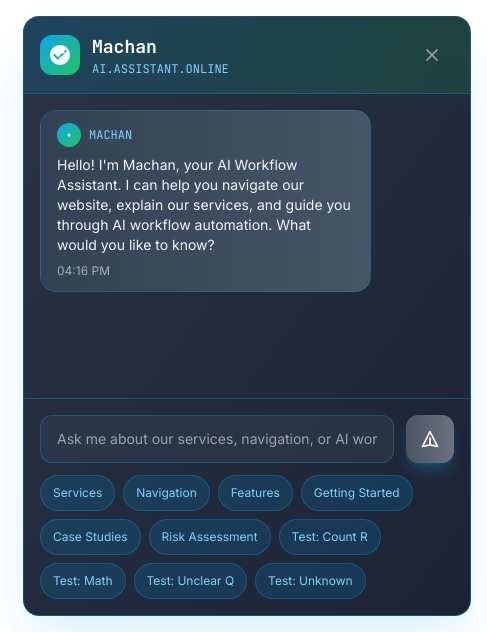
Test: AIAssistant › allows user to type and send messages
The image size is (487, 632).
Type "What services do you offer?" into the field with placeholder "Ask me about our services, navigation, or AI workflows..." at (217, 439), box [40,415,394,463]
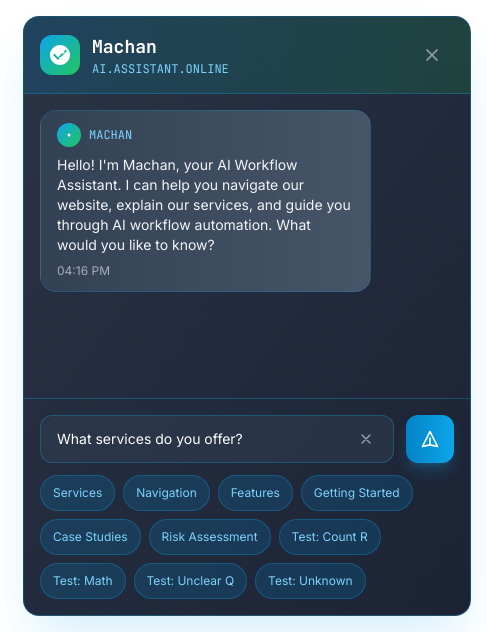
Click the button named "send message" at (430, 439), box [406,415,454,463]
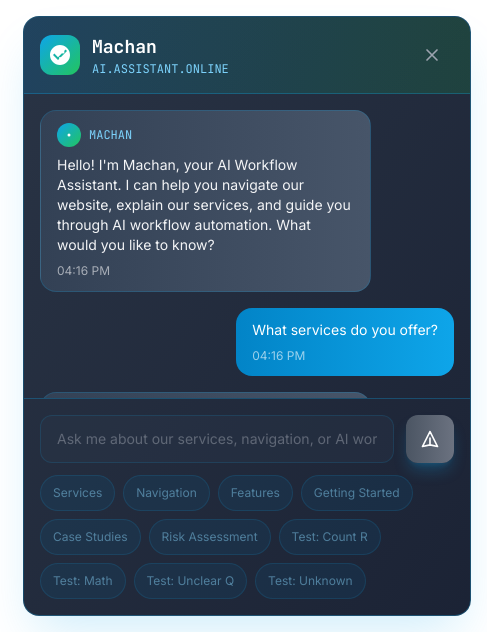
Now the text "What services do you offer?" is shown, box [252,320,438,340]
